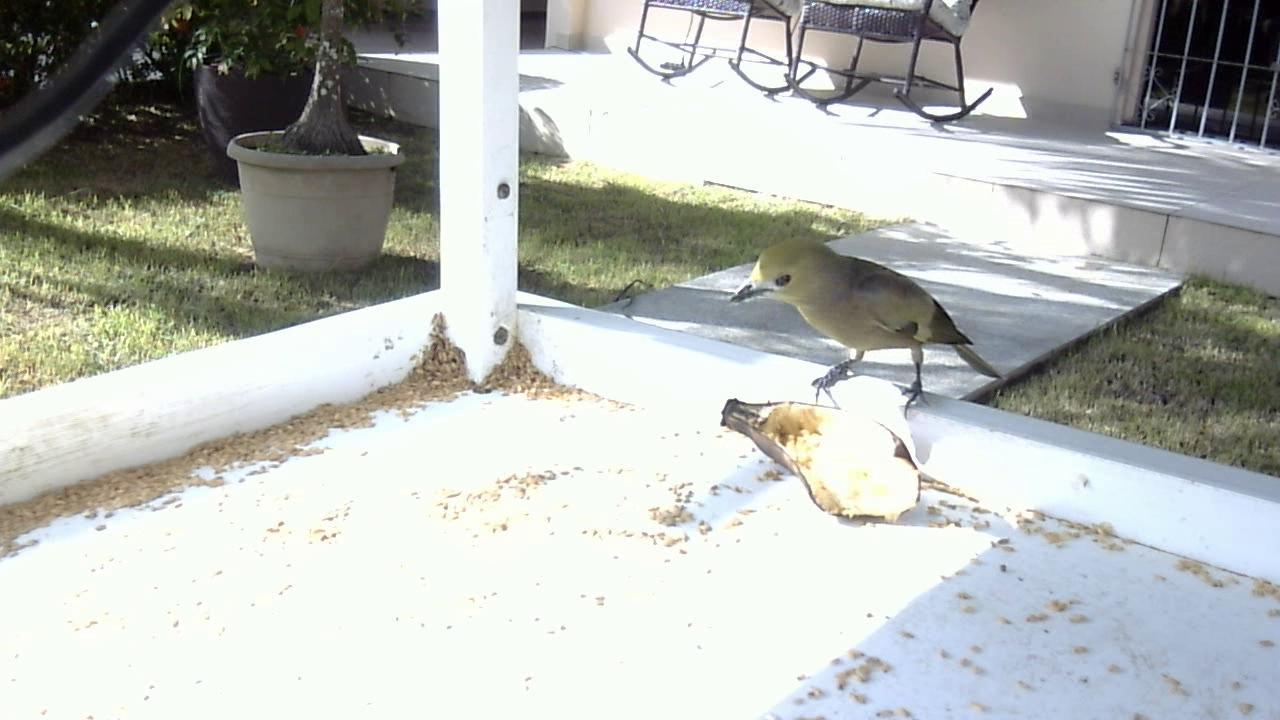sanhaco_do_coqueiro: (717, 218, 1027, 423)
